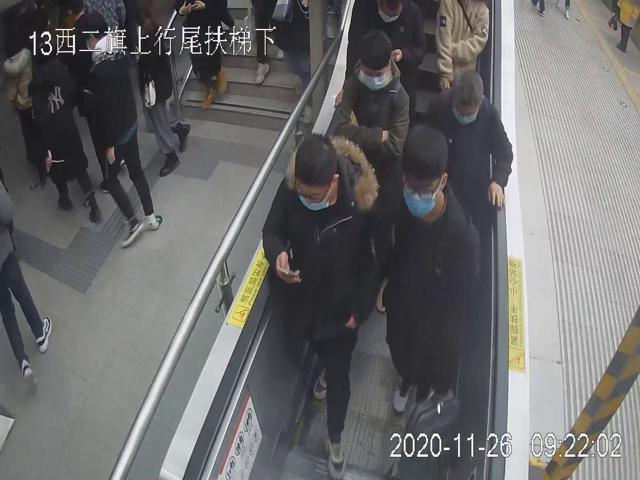person: (259, 131, 378, 480), (377, 122, 481, 415), (325, 28, 411, 315), (424, 65, 513, 228)
